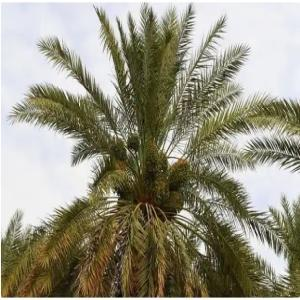palm tree: (5, 2, 299, 296)
